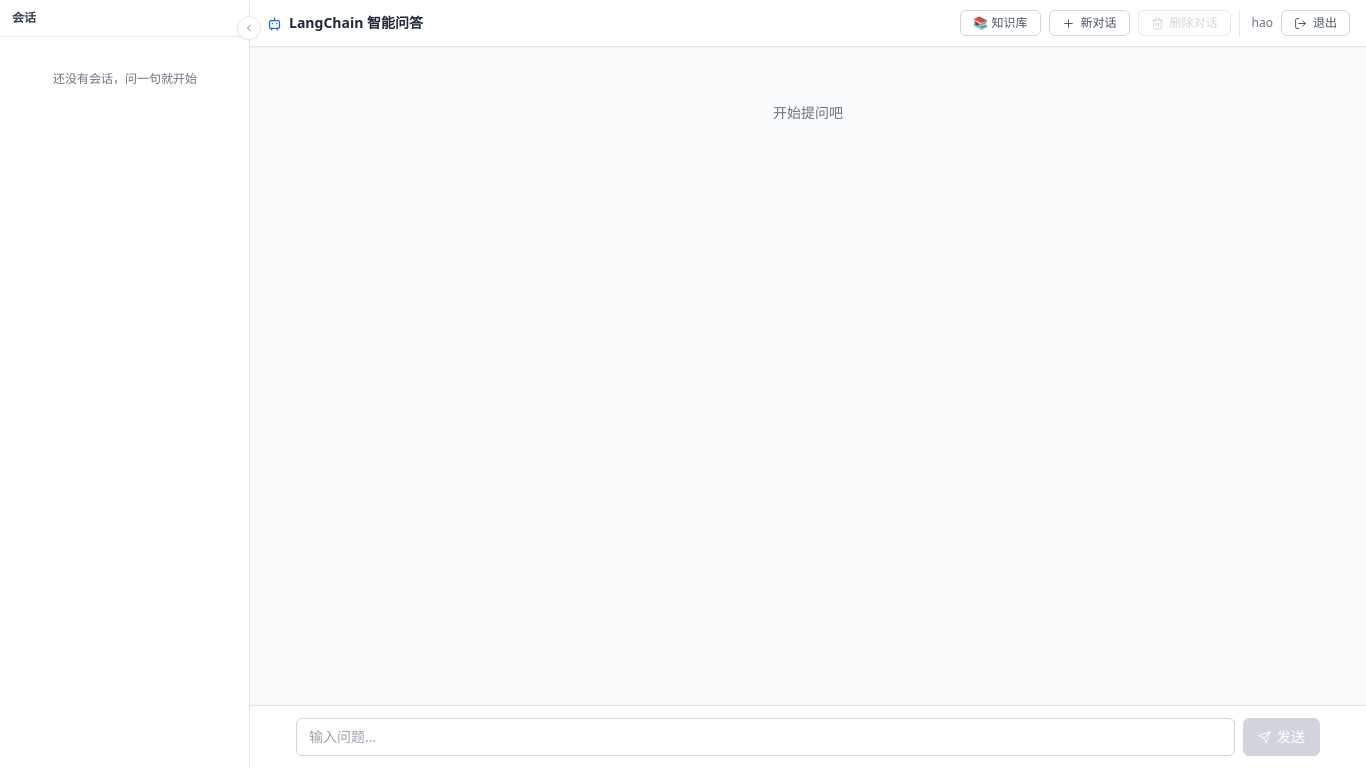
App 集成 › 删除失败时弹窗保持打开、显示错误行、消息不清空
The image size is (1366, 768).
In the field with placeholder "输入问题…": (766, 737) [296,718,1235,756], type "不能丢的问题"
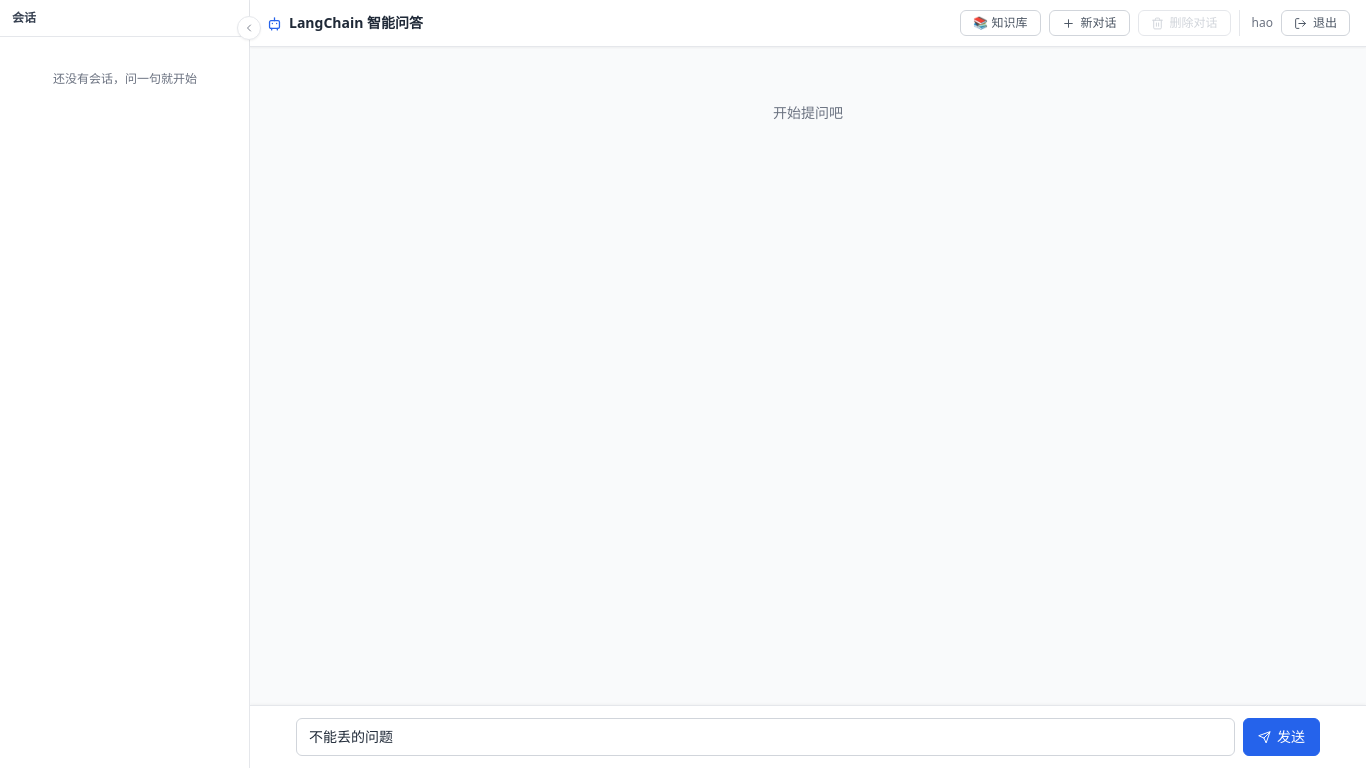
Click the button "发送": (1282, 737) [1243,718,1320,756]
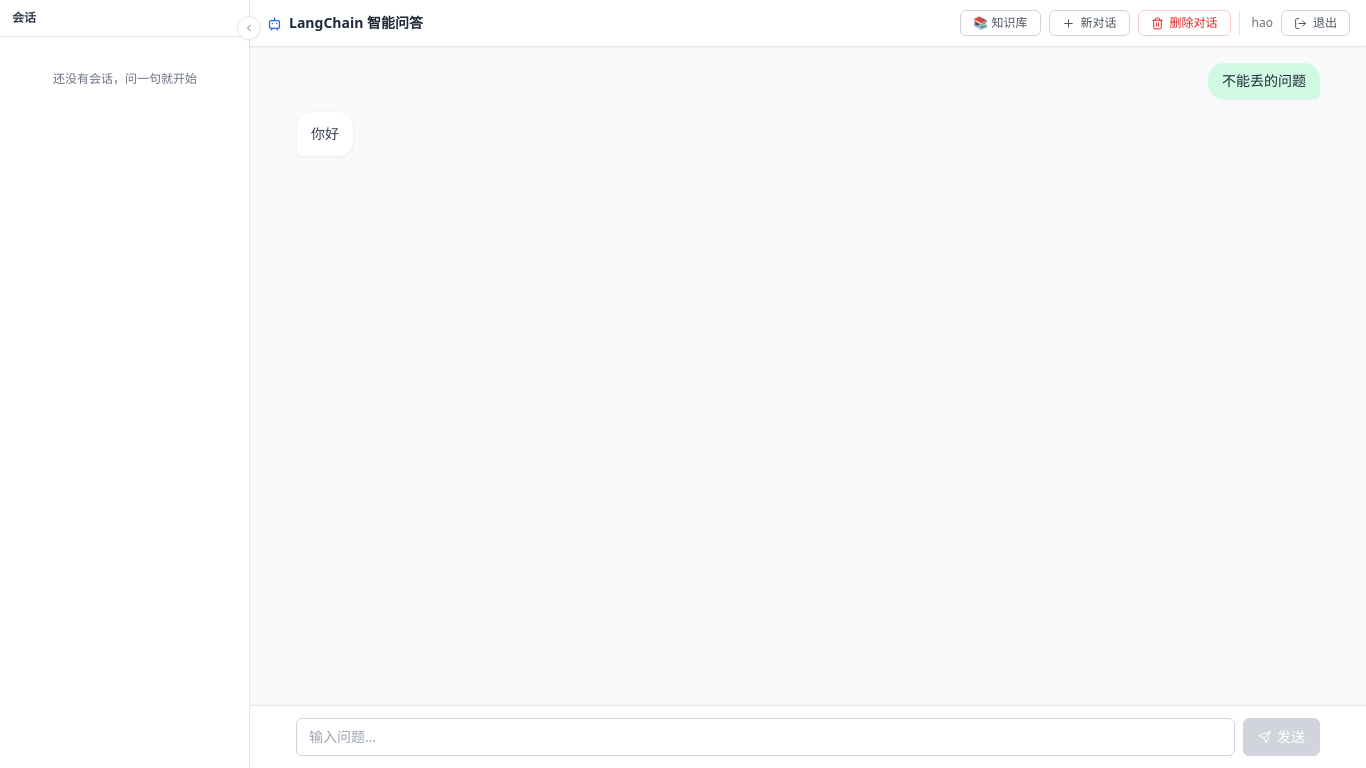
Expected: the text "不能丢的问题" is shown, [1208,63,1320,99]
Click the button with test id "btn-delete-chat": (1184, 23) [1138,10,1230,36]
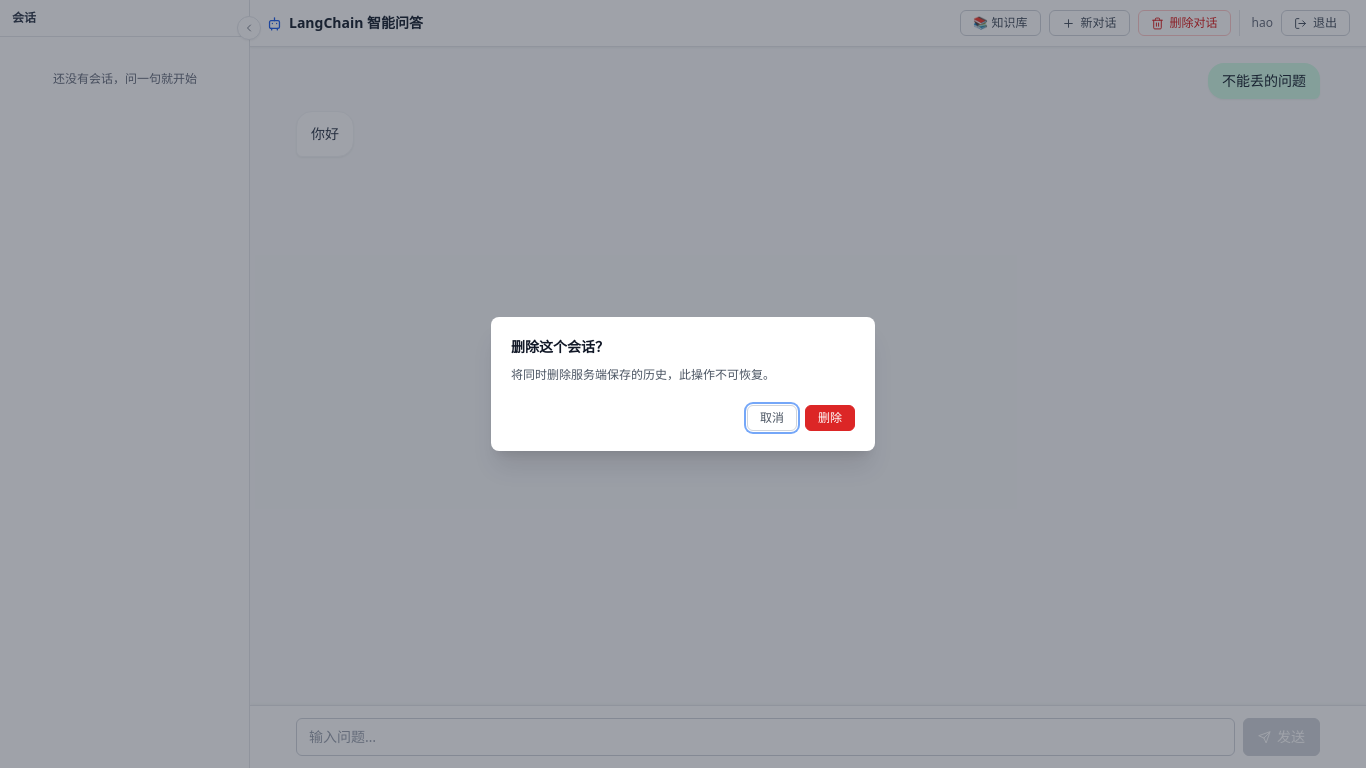
Click the button with test id "confirm-ok": (830, 418) [805,405,855,431]
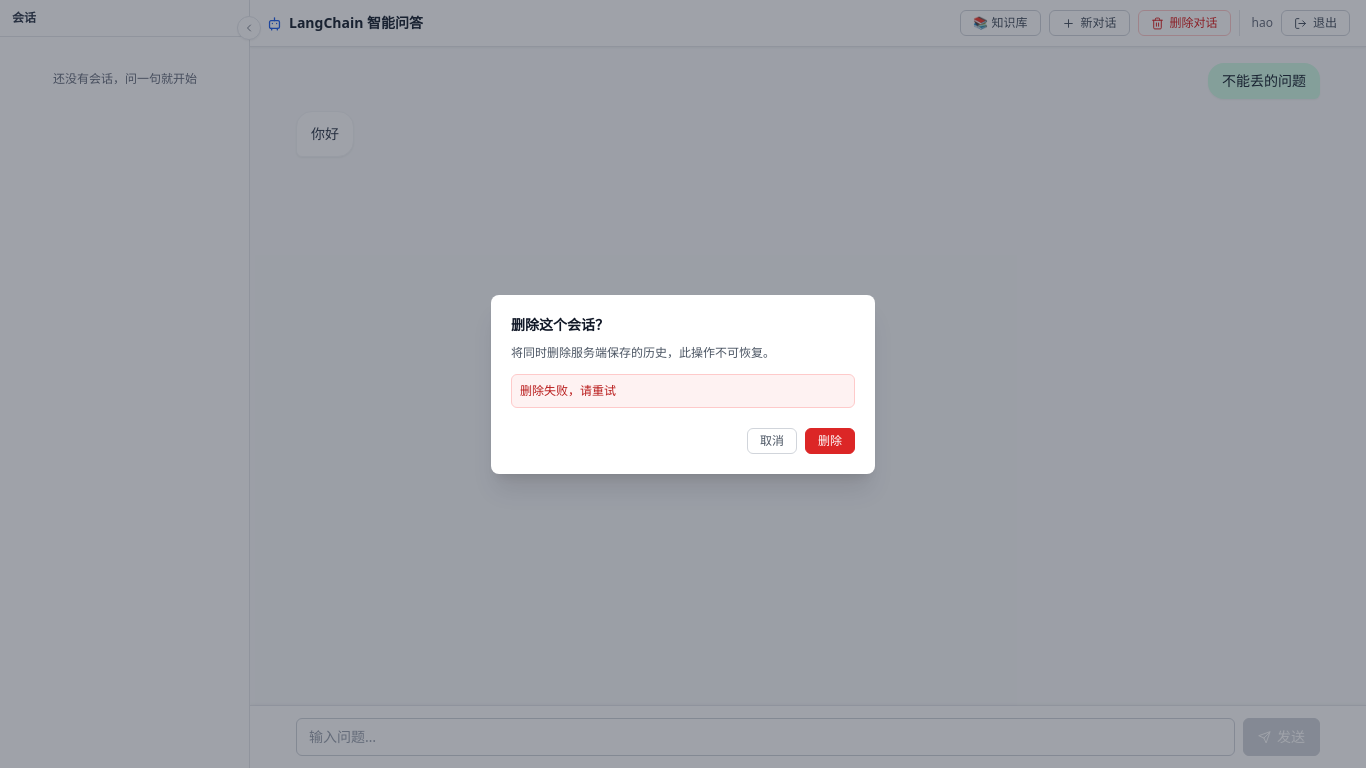
Expected: the dialog with test id "confirm-dialog" is shown, [491,294,875,474]
Expected: the text "不能丢的问题" is shown, [1208,63,1320,99]
Expected: the message with test id "confirm-error" reads "删除失败，请重试", [520,382,616,399]
